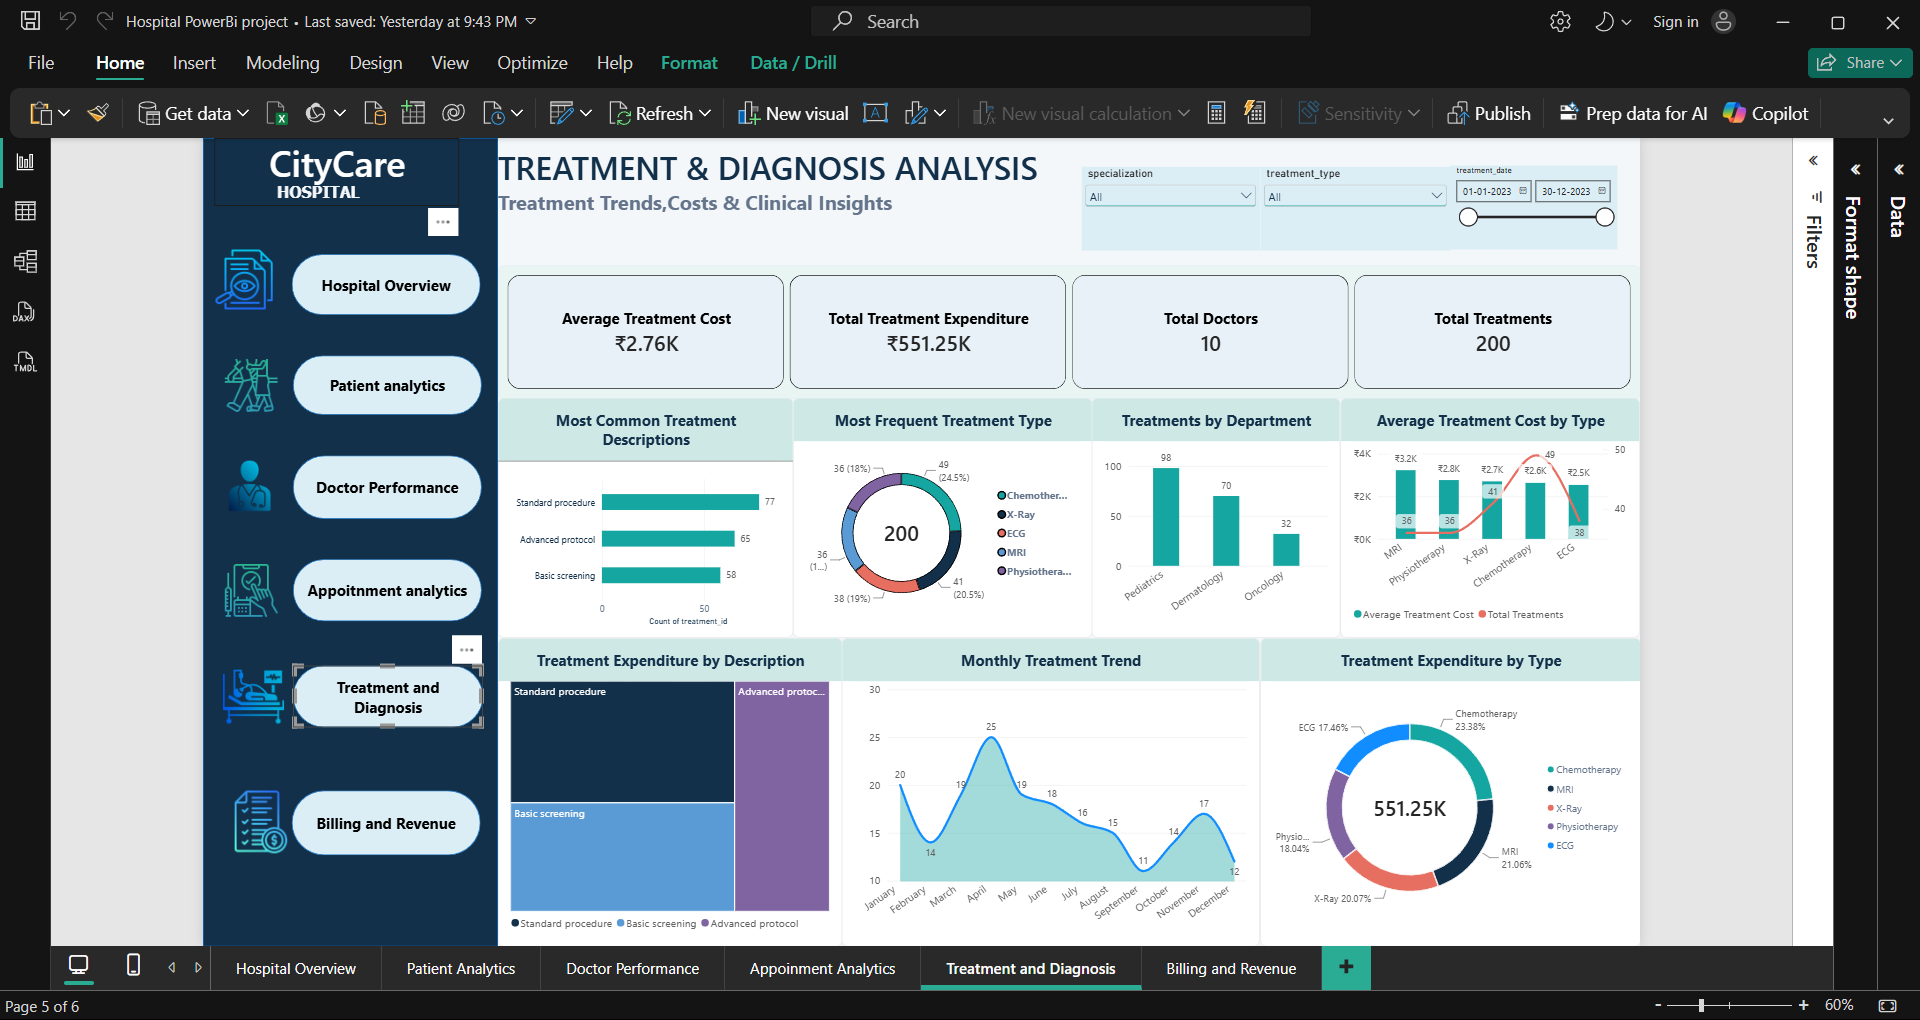

The page's visual inventory and layout, read from the dashboard file:
{"tool":"powerbi","page":{"name":"Treatment and Diagnosis","canvas":[1920,1080],"ordinal":4},"visuals":[{"type":"shape","box":[0,0,394,1080],"z":0},{"type":"textbox","box":[14.3,0,328.6,91.8],"z":1000},{"type":"textbox","box":[394,10,734,118],"z":2000},{"type":"textbox","box":[79.6,59.2,263.3,32.7],"z":3000},{"type":"slicer","title":"Appoinment Date","fields":{"Values":["treatments.treatment_date"]},"box":[1666,36,222,112],"z":4000},{"type":"slicer","fields":{"Values":["treatments.treatment_type"]},"box":[1412,38,254,112],"z":5000},{"type":"shape","box":[117.8,154.6,252.1,81],"z":6000},{"type":"shape","box":[119.6,290.8,252.1,79.1],"z":7000},{"type":"shape","box":[119.6,423.3,252.1,84.7],"z":8000},{"type":"shape","box":[119.6,563.2,252.1,82.8],"z":9000},{"type":"shape","box":[119.6,704.9,254,82.8],"z":10000},{"type":"shape","box":[117.8,872.4,252.1,86.5],"z":11000},{"type":"image","box":[11,149.1,86.5,81],"z":12000},{"type":"image","box":[26.5,289.8,75.5,79.6],"z":13000},{"type":"image","box":[26.5,422.4,71.4,83.7],"z":14000},{"type":"image","box":[26.5,563.3,75.5,83.7],"z":15000},{"type":"image","box":[26.5,704.1,81.6,83.7],"z":16000},{"type":"image","box":[32.7,871.4,87.8,83.7],"z":17000},{"type":"cardVisual","fields":{"Data":["treatments.Average Treatment Cost","patients.Total Treatment Expenditure","doctors.Total Doctors","treatments.Total Treatments"]},"box":[394,170,1526,178],"z":18000},{"type":"clusteredBarChart","title":"Most Common Treatment Descriptions","fields":{"Category":["treatments.description"],"Y":["CountNonNull(treatments.treatment_id)"]},"box":[394,348,394,320],"z":19000},{"type":"donutChart","title":"Most Frequent Treatment Type","fields":{"Category":["treatments.treatment_type"],"Y":["CountNonNull(treatments.treatment_id)"]},"box":[788,348,400,320],"z":20000},{"type":"clusteredColumnChart","title":"Treatments by Department","fields":{"Category":["doctors.specialization"],"Y":["CountNonNull(treatments.treatment_id)"]},"box":[1188,348,332,320],"z":21000},{"type":"treemap","title":"Treatment Expenditure by Description","fields":{"Group":["treatments.description"],"Values":["Sum(treatments.cost)"]},"box":[394,668,460,412],"z":22000},{"type":"lineClusteredColumnComboChart","title":"Average Treatment Cost by Type","fields":{"Category":["treatments.treatment_type"],"Y":["treatments.Average Treatment Cost"],"Y2":["treatments.Total Treatments"]},"box":[1520,348,400,320],"z":23000},{"type":"areaChart","title":"Monthly Treatment Trend","fields":{"Category":["treatments.treatment_date.Variation.Date Hierarchy.Year","treatments.treatment_date.Variation.Date Hierarchy.Month"],"Y":["treatments.Total Treatments"]},"box":[854,668,558,412],"z":24000},{"type":"donutChart","title":"Treatment Expenditure by Type ","fields":{"Category":["treatments.treatment_type"],"Y":["Sum(treatments.cost)"]},"box":[1412,668,508,412],"z":25000},{"type":"slicer","fields":{"Values":["doctors.specialization"]},"box":[1174,38,238,112],"z":26000}]}

Visuals, with their boxes on the page's 1920x1080 design canvas (x1, y1, x2, y2). These are canvas units, not pixel positions in the 1920x1020 screenshot, which may show the page scaled, cropped or inside an application window:
shape: pyautogui.locateOnScreen(0, 0, 394, 1080)
textbox: pyautogui.locateOnScreen(14, 0, 343, 92)
textbox: pyautogui.locateOnScreen(394, 10, 1128, 128)
textbox: pyautogui.locateOnScreen(80, 59, 343, 92)
"Appoinment Date" slicer: pyautogui.locateOnScreen(1666, 36, 1888, 148)
slicer - treatments.treatment_type: pyautogui.locateOnScreen(1412, 38, 1666, 150)
shape: pyautogui.locateOnScreen(118, 155, 370, 236)
shape: pyautogui.locateOnScreen(120, 291, 372, 370)
shape: pyautogui.locateOnScreen(120, 423, 372, 508)
shape: pyautogui.locateOnScreen(120, 563, 372, 646)
shape: pyautogui.locateOnScreen(120, 705, 374, 788)
shape: pyautogui.locateOnScreen(118, 872, 370, 959)
image: pyautogui.locateOnScreen(11, 149, 98, 230)
image: pyautogui.locateOnScreen(26, 290, 102, 369)
image: pyautogui.locateOnScreen(26, 422, 98, 506)
image: pyautogui.locateOnScreen(26, 563, 102, 647)
image: pyautogui.locateOnScreen(26, 704, 108, 788)
image: pyautogui.locateOnScreen(33, 871, 120, 955)
cardVisual - treatments.Average Treatment Cost x patients.Total Treatment Expenditure: pyautogui.locateOnScreen(394, 170, 1920, 348)
"Most Common Treatment Descriptions" clusteredBarChart: pyautogui.locateOnScreen(394, 348, 788, 668)
"Most Frequent Treatment Type" donutChart: pyautogui.locateOnScreen(788, 348, 1188, 668)
"Treatments by Department" clusteredColumnChart: pyautogui.locateOnScreen(1188, 348, 1520, 668)
"Treatment Expenditure by Description" treemap: pyautogui.locateOnScreen(394, 668, 854, 1080)
"Average Treatment Cost by Type" lineClusteredColumnComboChart: pyautogui.locateOnScreen(1520, 348, 1920, 668)
"Monthly Treatment Trend" areaChart: pyautogui.locateOnScreen(854, 668, 1412, 1080)
"Treatment Expenditure by Type " donutChart: pyautogui.locateOnScreen(1412, 668, 1920, 1080)
slicer - doctors.specialization: pyautogui.locateOnScreen(1174, 38, 1412, 150)
